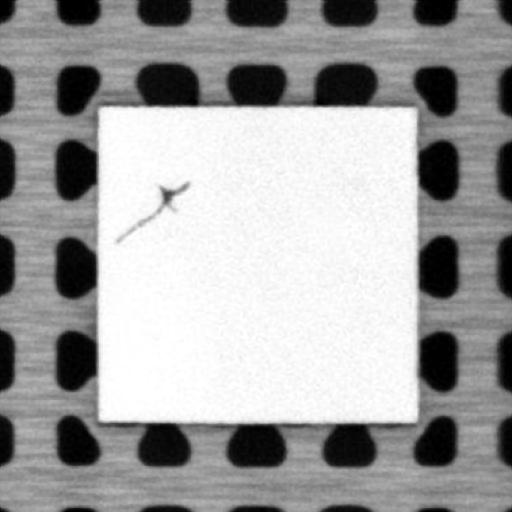DIE_INK: (108, 178, 190, 243)
